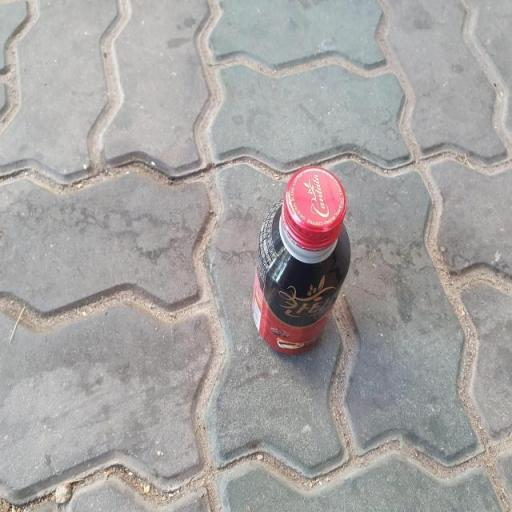metal: (232, 150, 372, 384)
